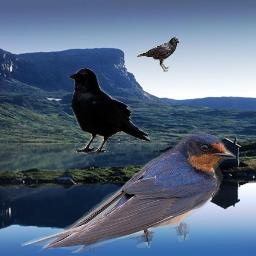Crow: (66, 67, 153, 154), (135, 37, 179, 72)
Swallow: (21, 130, 236, 253)
